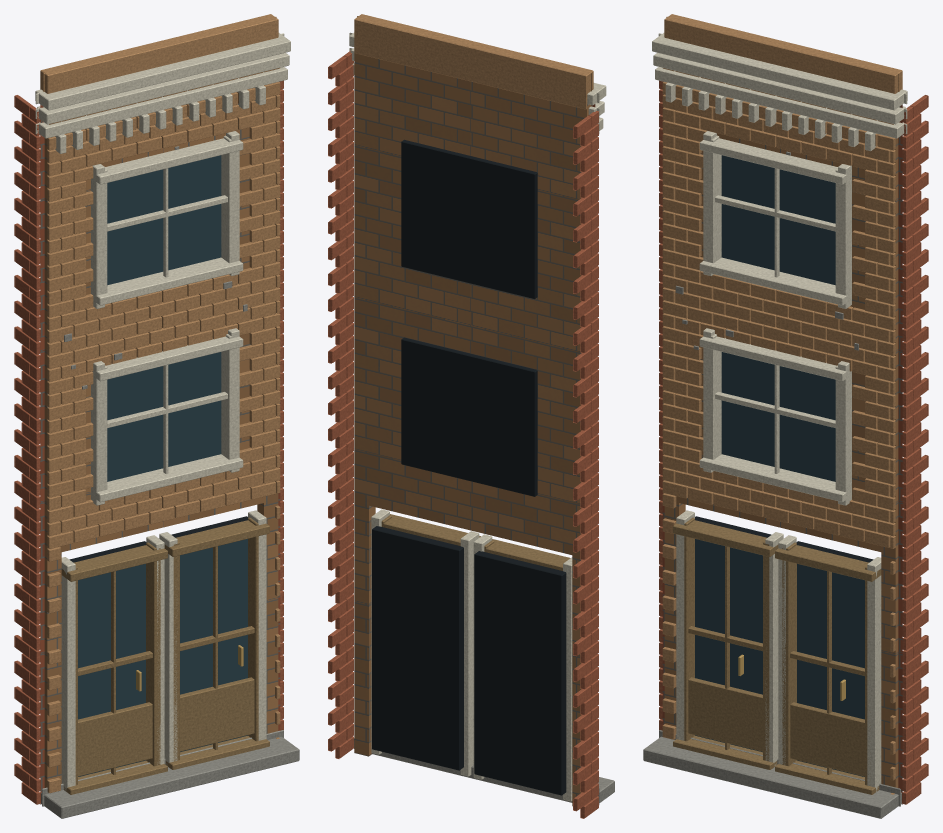
The model's file is OFFC10_lod0.glb.
3 views of the same model, side by side, from view 1: azimuth 30°, elevation 25°; view 2: azimuth 150°, elevation 25°; view 3: azimuth 330°, elevation 25° (orthographic).
Visible parts, largest first — view 1: OFFC10_FRONT_LOD0; view 2: OFFC10_FRONT_LOD0; view 3: OFFC10_FRONT_LOD0.
Part boxes in pixels (x1,y1,x2,y2): OFFC10_FRONT_LOD0: [14, 14, 299, 818]; OFFC10_FRONT_LOD0: [328, 14, 614, 818]; OFFC10_FRONT_LOD0: [643, 14, 928, 818].
Size of the model in its own units: 3.44 by 9.66 by 1.02.
15 materials, 12 textured.
